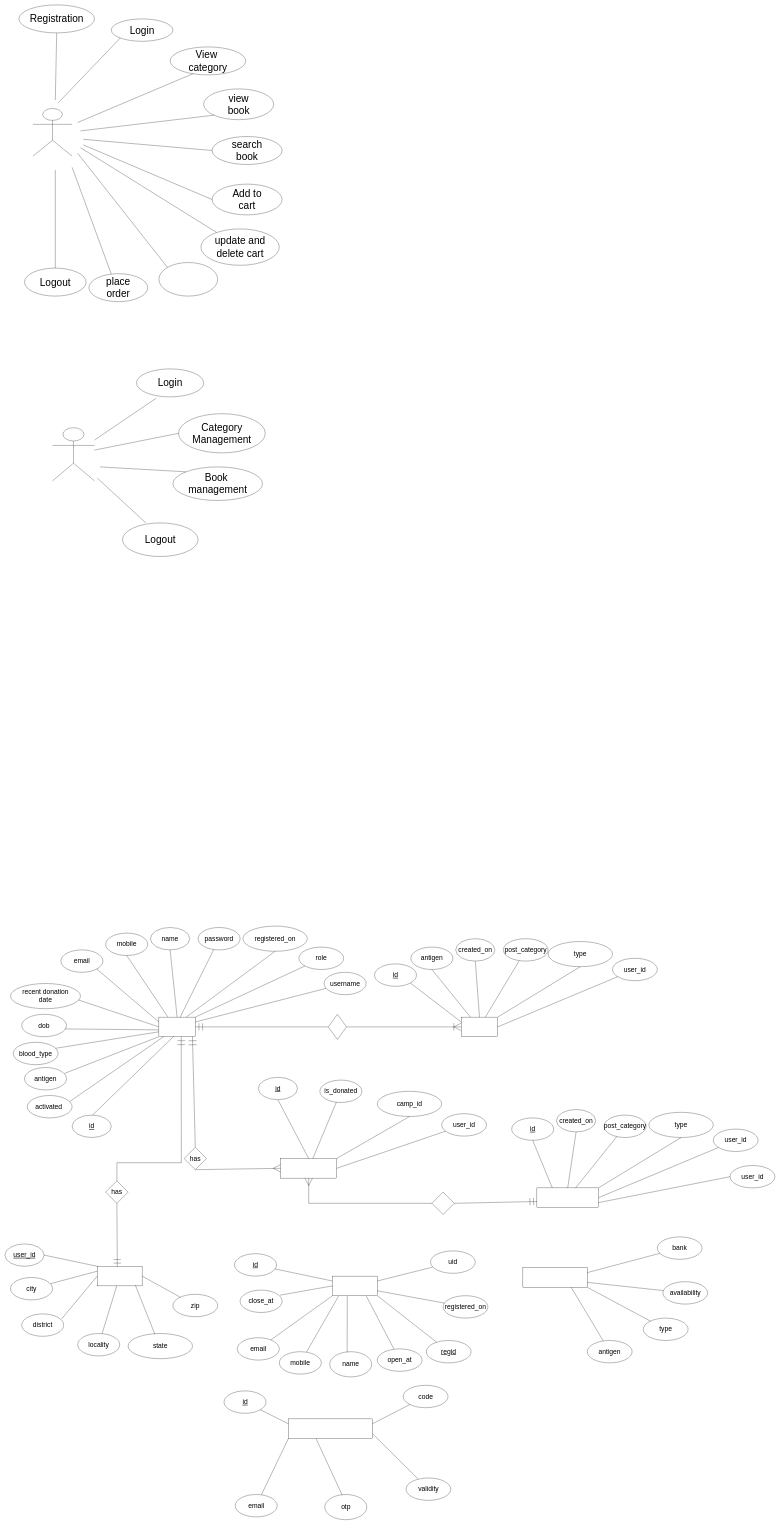
This 780x1525 diagram has some shape labels left out. The shapes that lost their labels are listed below. From the top down, each one's box as (x1, y1, x2, y2) in pixels, then its label:
(33, 108, 72, 156): user
(159, 262, 218, 296): view status
(52, 427, 95, 481): Admin
(159, 1017, 195, 1037): USERS
(461, 1017, 498, 1037): POST
(280, 1158, 337, 1178): camp_registration
(537, 1188, 599, 1208): bood_camp
(97, 1266, 142, 1286): user_address
(332, 1276, 377, 1296): blood_banks
(523, 1267, 587, 1287): blood_repository
(288, 1419, 372, 1439): email_activation_codes
